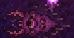crimera: (0, 1, 74, 38)
